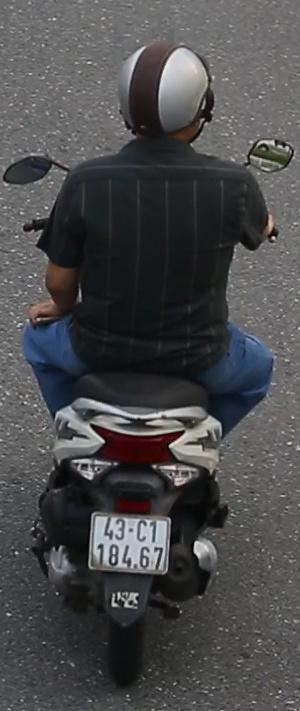LP: (87, 507, 174, 578)
helmet: (113, 36, 219, 162)
